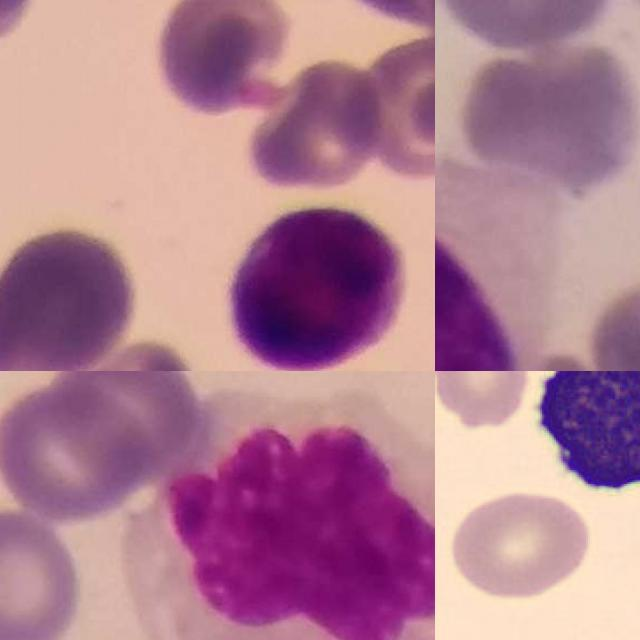Lymphocyte: (226, 205, 411, 371), (435, 156, 567, 371), (522, 371, 640, 505)
Monocyte: (137, 413, 435, 640)
RBC: (444, 484, 593, 604), (435, 371, 545, 434)
